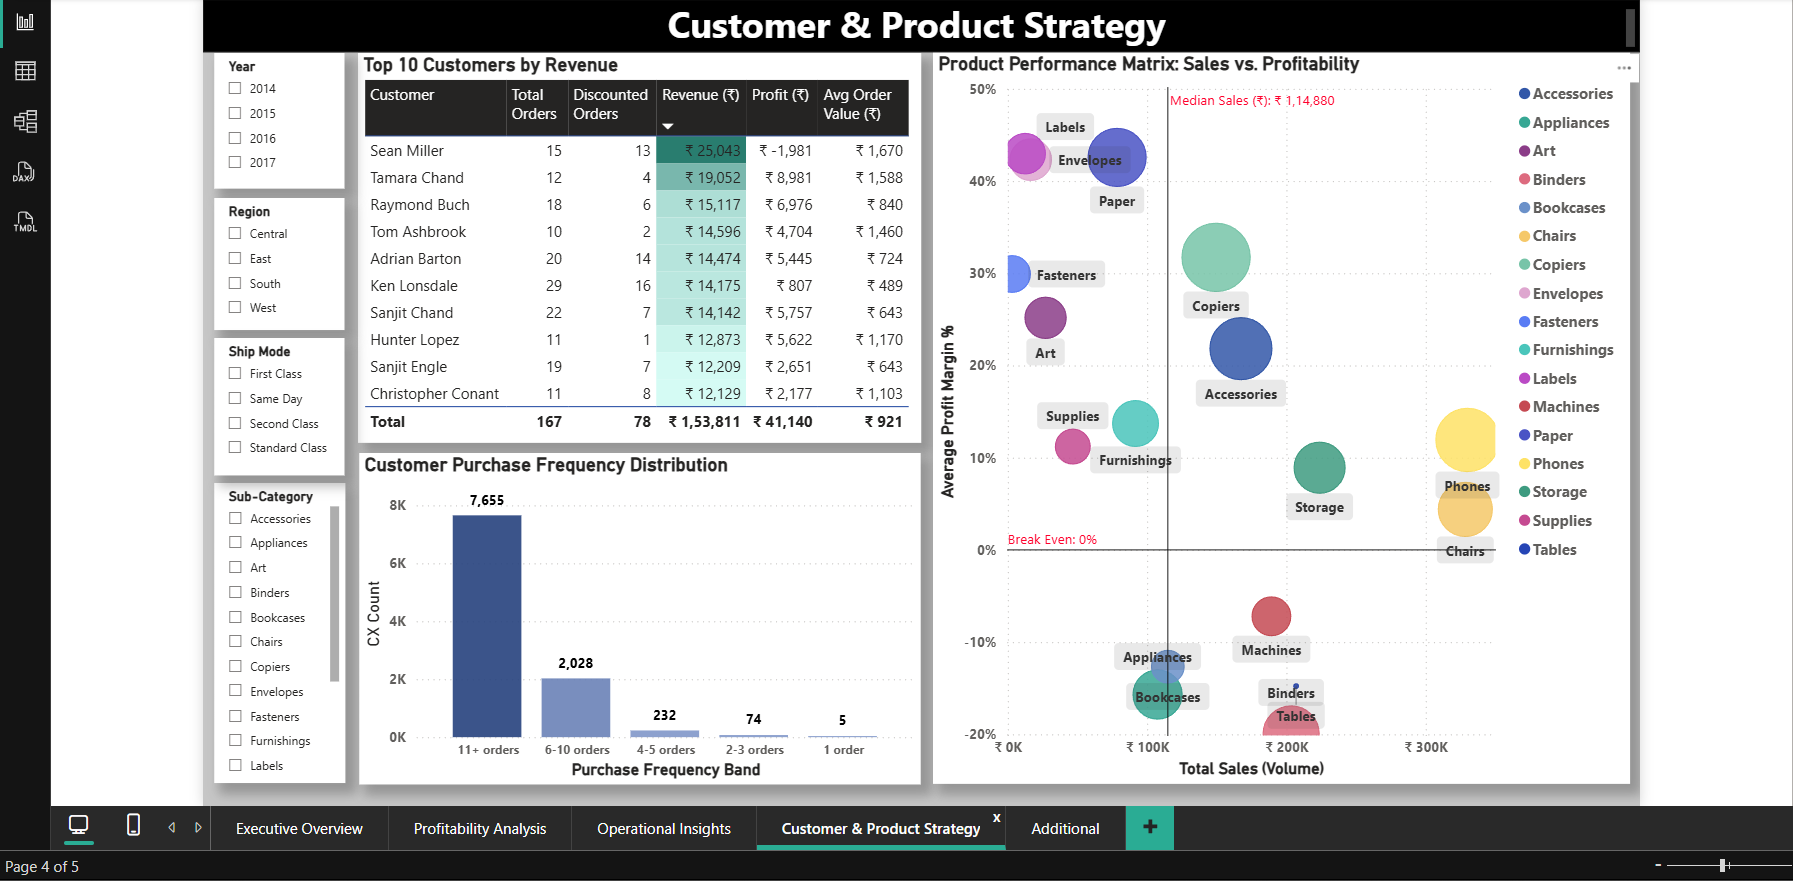

This screenshot's page, from the dashboard's own definition file:
{"tool":"powerbi","page":{"name":"Customer & Product Strategy","canvas":[1280,720],"ordinal":3},"visuals":[{"type":"tableEx","title":"Top 10 Customers by Revenue","fields":{"Values":["Superstore_Sales_Cleaned.Customer Name","CountNonNull(Superstore_Sales_Cleaned.Row ID)","Sum(Superstore_Sales_Cleaned.Is Discounted)","Sum(Superstore_Sales_Cleaned.Sales)","Sum(Superstore_Sales_Cleaned.Profit)","Superstore_Sales_Cleaned.Avg Order Value"]},"box":[138.3,49.4,501.2,346.9],"z":0},{"type":"slicer","fields":{"Values":["Superstore_Sales_Cleaned.Order Year"]},"box":[9.9,49.4,116,121],"z":1000},{"type":"slicer","fields":{"Values":["Superstore_Sales_Cleaned.Sub-Category"]},"box":[9.8,431.9,116.6,267.5],"z":2000},{"type":"slicer","fields":{"Values":["Superstore_Sales_Cleaned.Region"]},"box":[9.9,177.8,116,117.3],"z":3000},{"type":"slicer","fields":{"Values":["Superstore_Sales_Cleaned.Ship Mode"]},"box":[9.9,302.5,116,122.2],"z":4000},{"type":"clusteredColumnChart","title":"Customer Purchase Frequency Distribution","fields":{"Category":["Superstore_Sales_Cleaned.Purchase Frequency Band"],"Y":["CountNonNull(Superstore_Sales_Cleaned.Customer ID)"]},"box":[139.5,404.9,500,295.1],"z":5000},{"type":"scatterChart","title":"Product Performance Matrix: Sales vs. Profitability","fields":{"X":["Superstore_Sales_Cleaned.Sales"],"Y":["Avg(Superstore_Sales_Cleaned.Profit Margin %)"],"Series":["Superstore_Sales_Cleaned.Sub-Category"],"Size":["Sum(Superstore_Sales_Cleaned.Profit)"]},"box":[650.6,48.1,621,651.9],"z":6000},{"type":"textbox","box":[0,1.2,1280,47.5],"z":7000}]}

Visuals, with their boxes on the page's 1280x720 design canvas (x1, y1, x2, y2). These are canvas units, not pixel positions in the 1793x881 screenshot, which may show the page scaled, cropped or inside an application window:
"Top 10 Customers by Revenue" tableEx: <box>138,49,640,396</box>
slicer - Superstore_Sales_Cleaned.Order Year: <box>10,49,126,170</box>
slicer - Superstore_Sales_Cleaned.Sub-Category: <box>10,432,126,699</box>
slicer - Superstore_Sales_Cleaned.Region: <box>10,178,126,295</box>
slicer - Superstore_Sales_Cleaned.Ship Mode: <box>10,302,126,425</box>
"Customer Purchase Frequency Distribution" clusteredColumnChart: <box>140,405,640,700</box>
"Product Performance Matrix: Sales vs. Profitability" scatterChart: <box>651,48,1272,700</box>
textbox: <box>0,1,1280,49</box>
